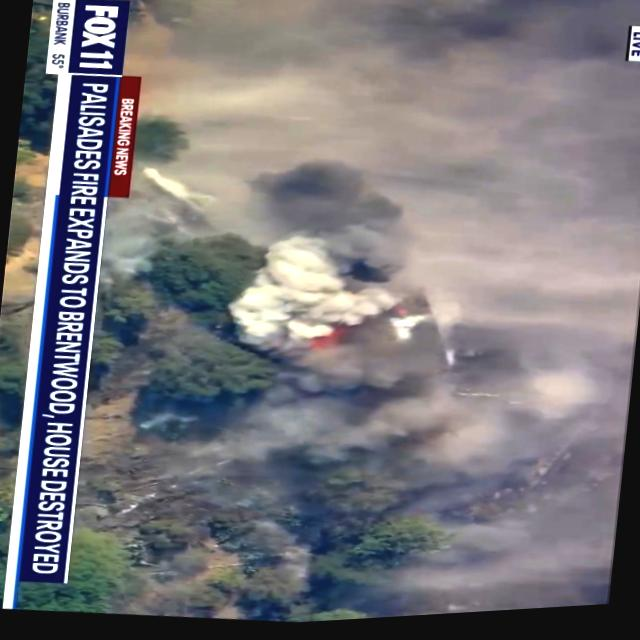Smoke: (178, 317, 634, 521), (217, 196, 468, 369)
